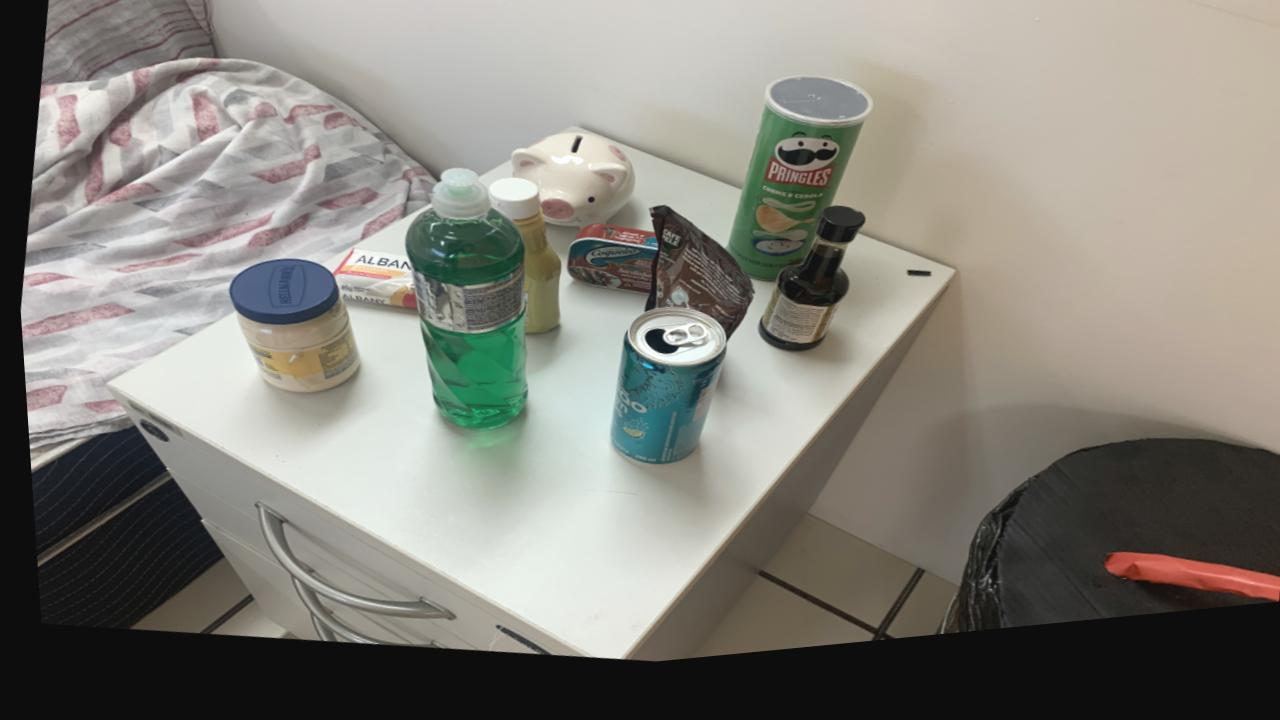Coffee-Pantry_Items: (640, 218, 750, 351)
Detergent-Cleanup_Items: (401, 177, 522, 437)
English_Sauce-Pantry_Items: (753, 222, 860, 366)
Mayonnaise-Pantry_Items: (225, 264, 354, 398)
Pig_Safe-Miscellaneous: (508, 139, 632, 238)
Pringles-Snacks: (722, 91, 870, 296)
Soap-Cleanup_Items: (322, 254, 413, 316)
Tea-Drinks: (604, 319, 721, 476)
Tuna_Can-Pantry_Items: (562, 235, 655, 306)
